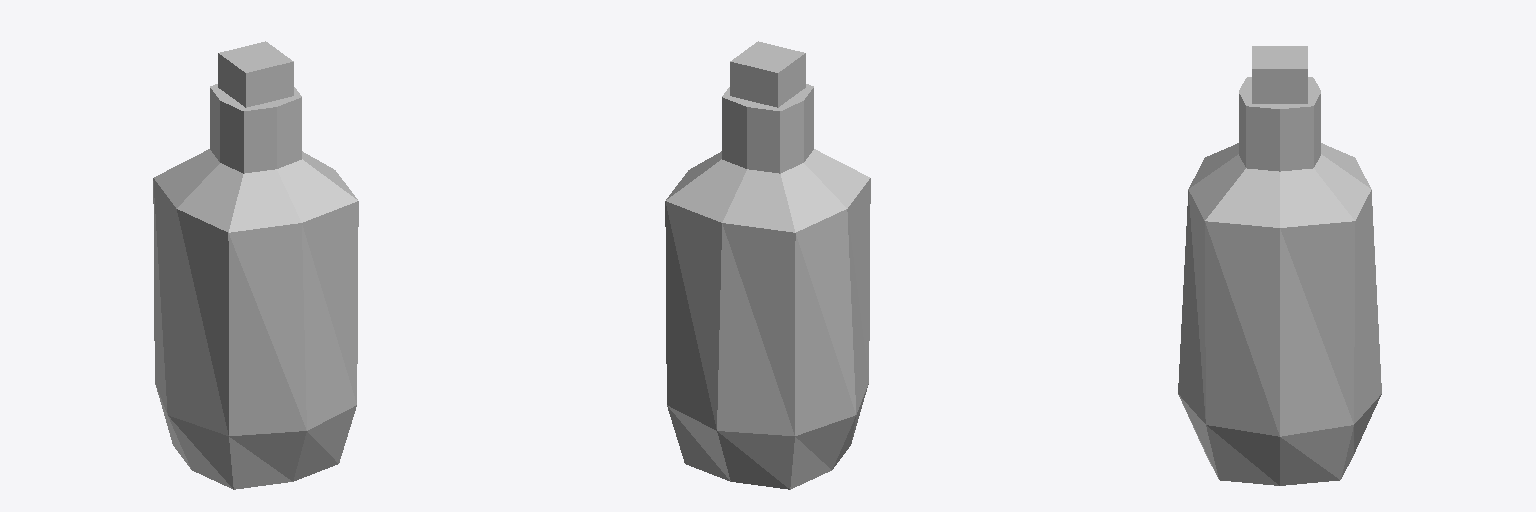
Rendered from vialOfPoison.obj.
3 views of the same model, side by side, from view 1: azimuth 30°, elevation 25°; view 2: azimuth 150°, elevation 25°; view 3: azimuth 270°, elevation 25° (orthographic).
Visible parts, largest first — view 1: Cube, Cube.002; view 2: Cube, Cube.002; view 3: Cube, Cube.002.
Boxes of the visible parts, box(x1,y1,x2,y2) form: Cube: box(153, 84, 358, 489); Cube.002: box(218, 41, 293, 107); Cube: box(665, 84, 870, 489); Cube.002: box(730, 41, 805, 107); Cube: box(1178, 77, 1381, 485); Cube.002: box(1252, 46, 1307, 103).
Bounding box in the file's own units: 1.68 × 3.61 × 1.68.